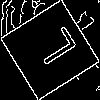L: (25, 25, 79, 73)
